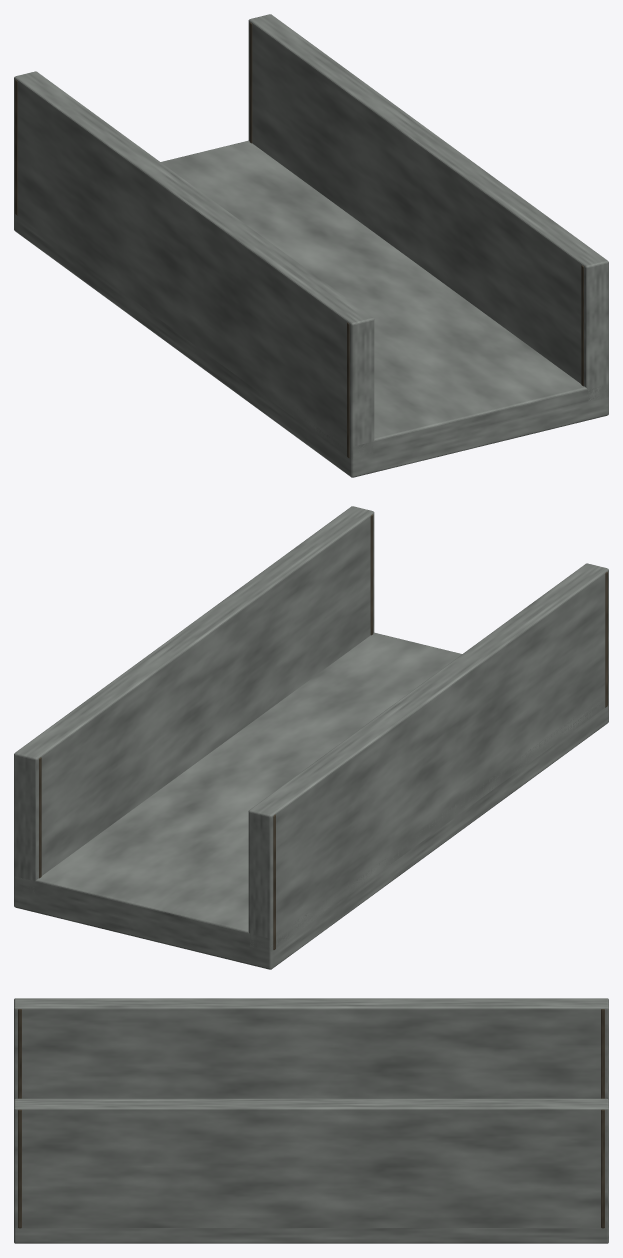
File: GR_DitchChannel_03.glb
3 views of the same model, one above another, from view 1: azimuth 30°, elevation 25°; view 2: azimuth 150°, elevation 25°; view 3: azimuth 270°, elevation 25° (orthographic). The views are drawn at different scales.
Parts seen in each view (by area): view 1: Static; view 2: Static; view 3: Static.
Boxes of the visible parts, x1,y1,x2,y2 form: Static: (14, 14, 608, 477); Static: (14, 506, 608, 969); Static: (14, 998, 608, 1243).
Size of the model in its own units: 0.885 by 0.505 by 2.
Materials: 1 (1 with a texture image).
